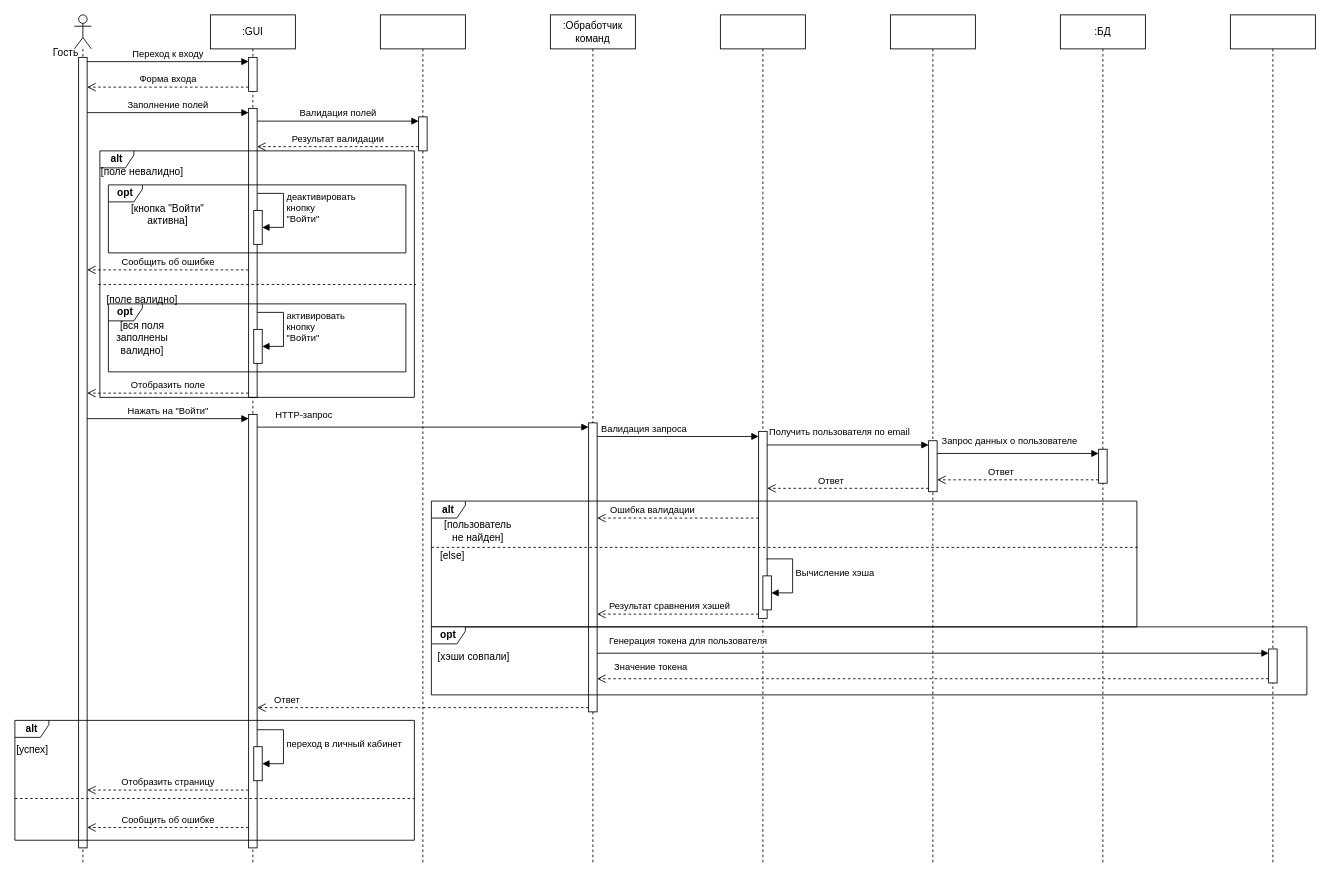
Some shapes in this 1330 by 880 pixel diagram are drawn without their labels. The shapes that lost their labels are listed below. From the top down, each one's box as (x1, y1, x2, y2) in pixels, then its label:
(380, 14, 465, 865): :Валидатор GUI
(720, 14, 805, 865): :Валидатор сервера
(890, 14, 975, 865): :Коннектор с БД
(1230, 14, 1315, 865): :Работа с JWT-токенами
